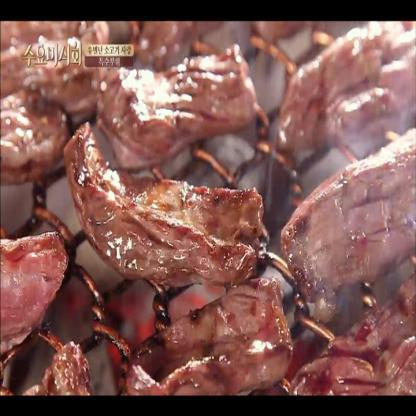beef: (80, 143, 262, 283)
